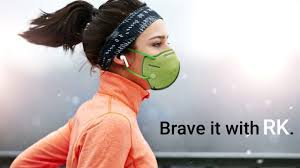mask: (73, 4, 184, 93)
